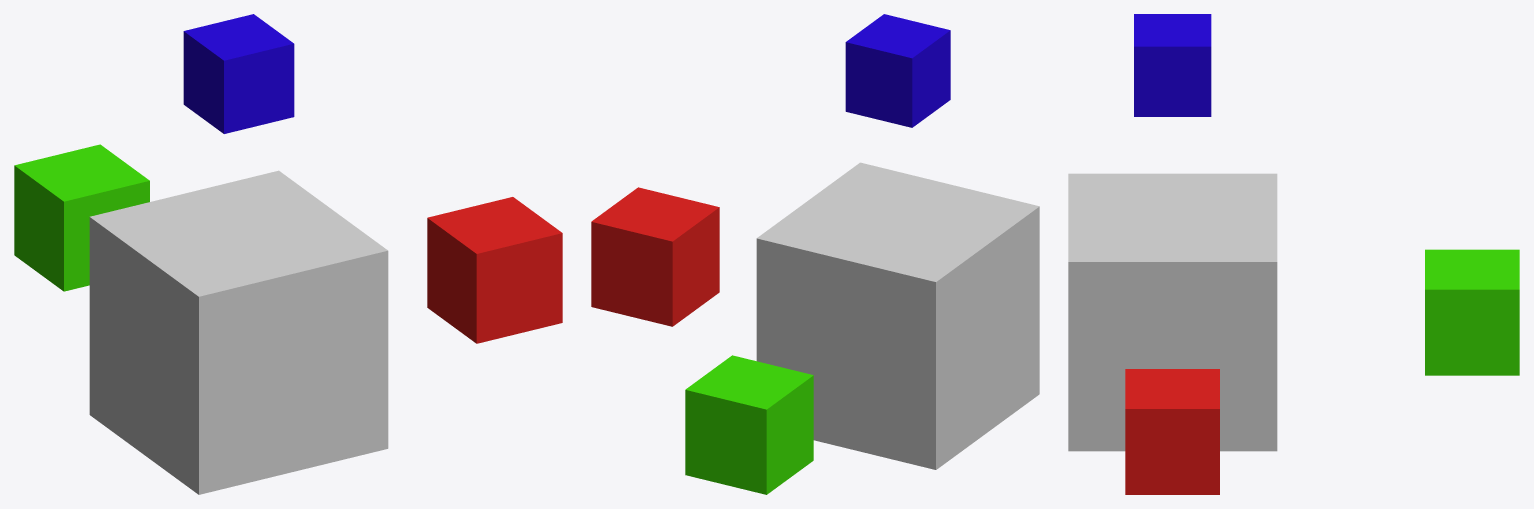
The model's file is TestScene3.fbx.
3 renders of one model, left to right at view 1: azimuth 30°, elevation 25°; view 2: azimuth 150°, elevation 25°; view 3: azimuth 270°, elevation 25°, orthographic. The views are drawn at different scales.
Visible parts, largest first — view 1: Cube, Cube.003, Cube.002, Cube.004; view 2: Cube, Cube.002, Cube.003, Cube.004; view 3: Cube, Cube.002, Cube.003, Cube.004.
Boxes of the visible parts, x1=… form: Cube: x1=89, y1=170, x2=388, y2=494; Cube.003: x1=427, y1=197, x2=562, y2=343; Cube.002: x1=14, y1=144, x2=149, y2=291; Cube.004: x1=183, y1=14, x2=294, y2=133; Cube: x1=756, y1=162, x2=1039, y2=469; Cube.002: x1=685, y1=355, x2=813, y2=494; Cube.003: x1=591, y1=187, x2=719, y2=326; Cube.004: x1=845, y1=14, x2=950, y2=127; Cube: x1=1068, y1=173, x2=1277, y2=451; Cube.002: x1=1425, y1=249, x2=1519, y2=375; Cube.003: x1=1125, y1=369, x2=1219, y2=494; Cube.004: x1=1134, y1=14, x2=1211, y2=116.
Bounding box in the file's own units: 416 × 398 × 432.
